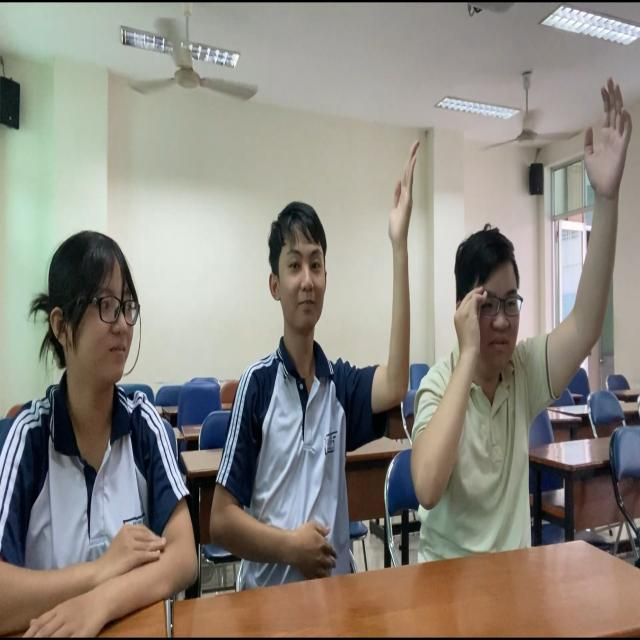raise_hand: (429, 77, 637, 577), (223, 135, 416, 591)
